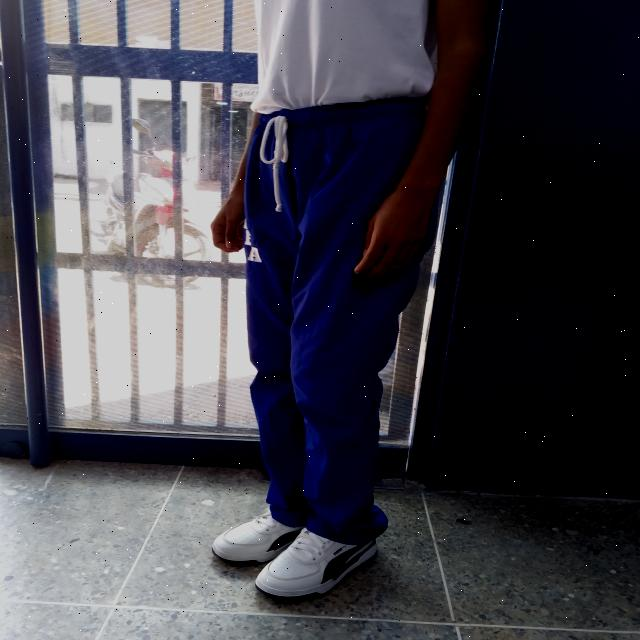uniforme_superior: (244, 96, 442, 548)
